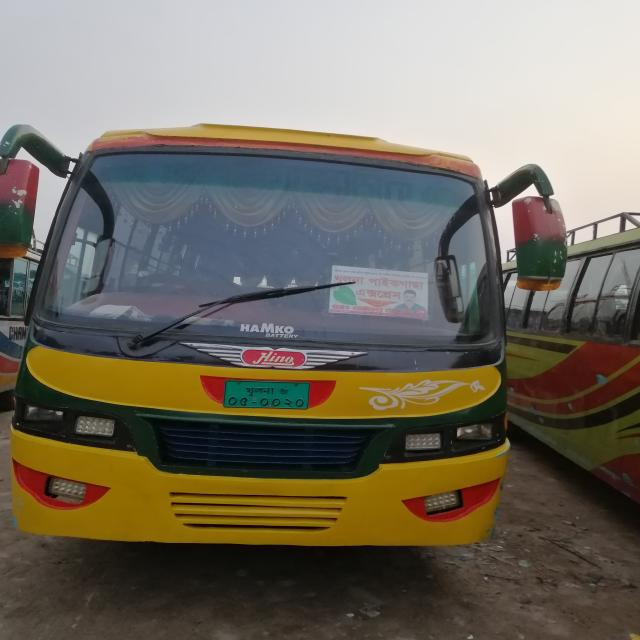Bus: (7, 100, 575, 576)
